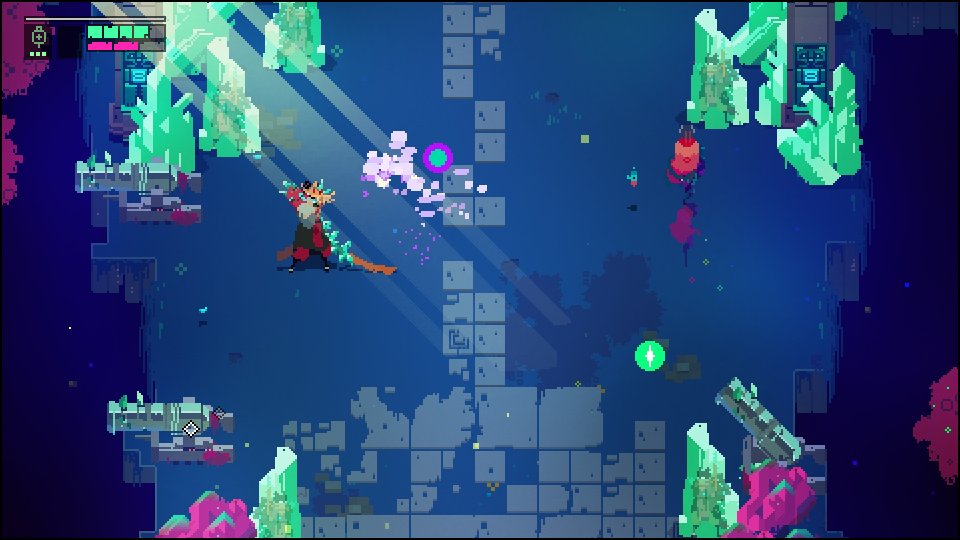hanged_man: (274, 177, 351, 271)
hanged_shot: (423, 140, 455, 175), (635, 336, 664, 373)
player: (671, 125, 702, 189)
